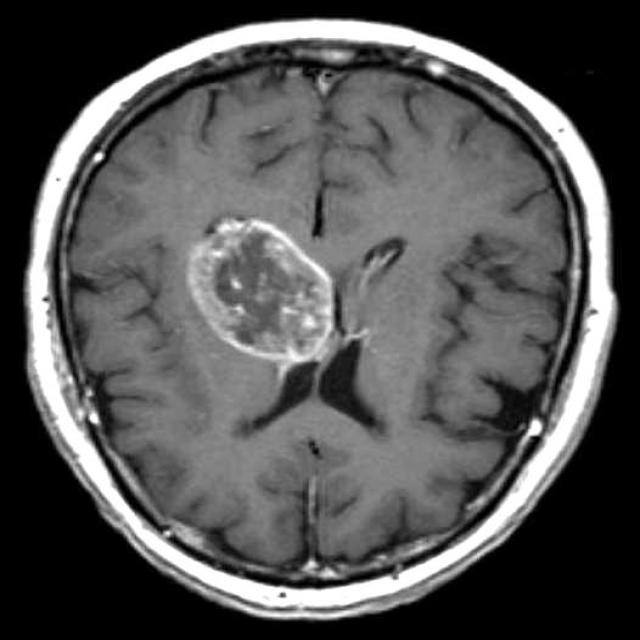brain tumor: (193, 225, 337, 359)
